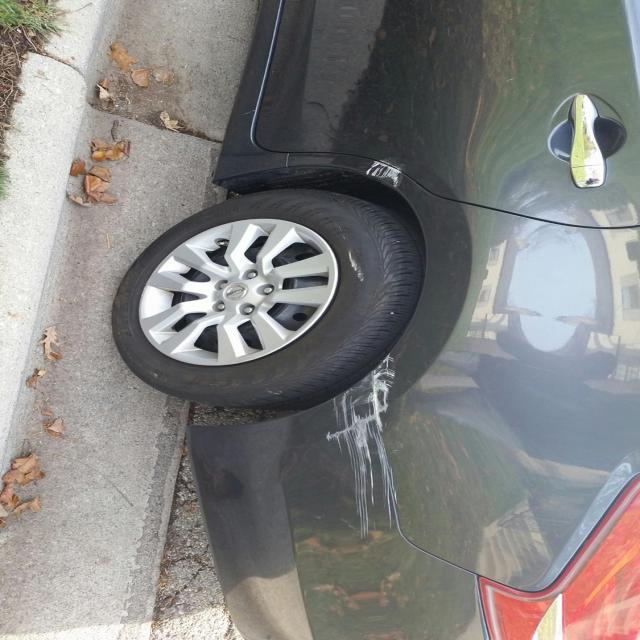scratch: (302, 342, 411, 578), (352, 138, 418, 194)
